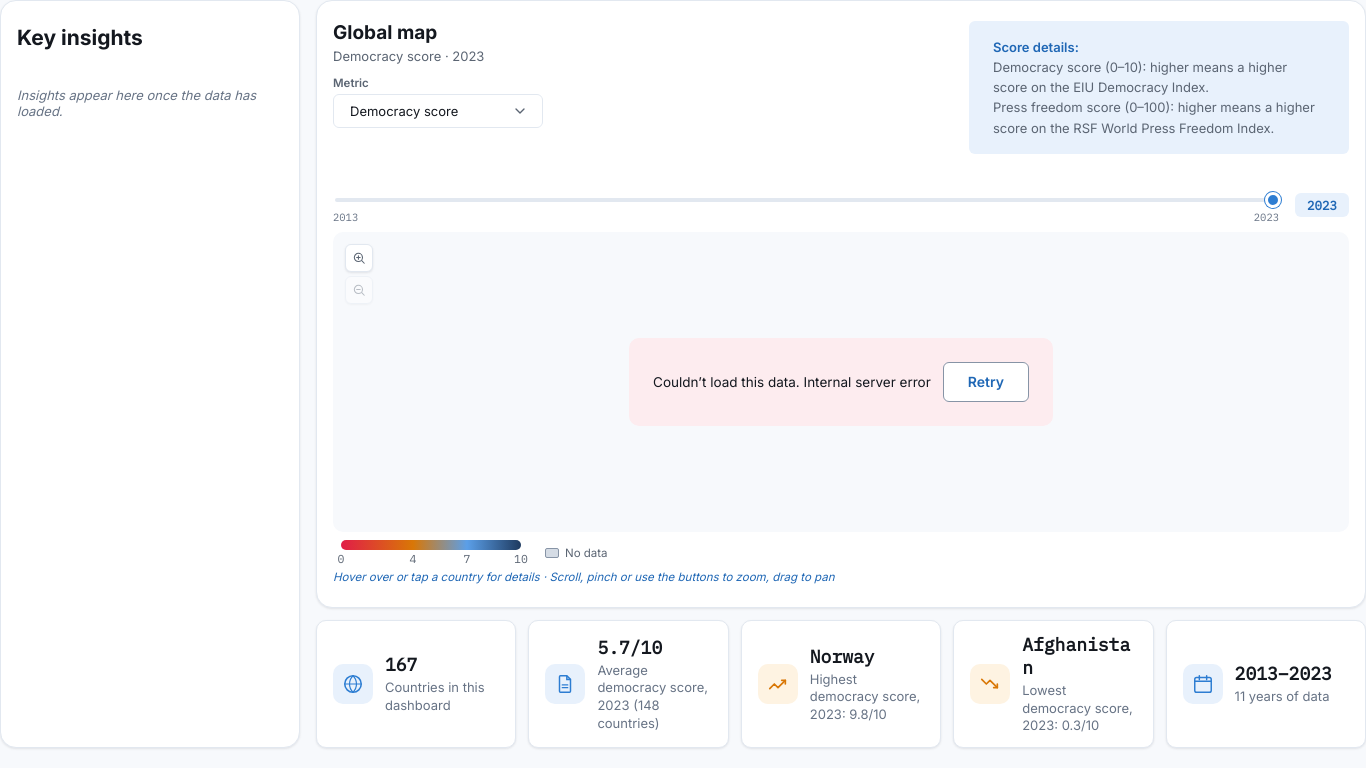
Test: Global map › shows an error with Retry when the map data fails to load
Expected: the message shows "Internal server error", [804, 374, 931, 390]
Click the button "Retry" at (986, 382), box [943, 362, 1029, 402]
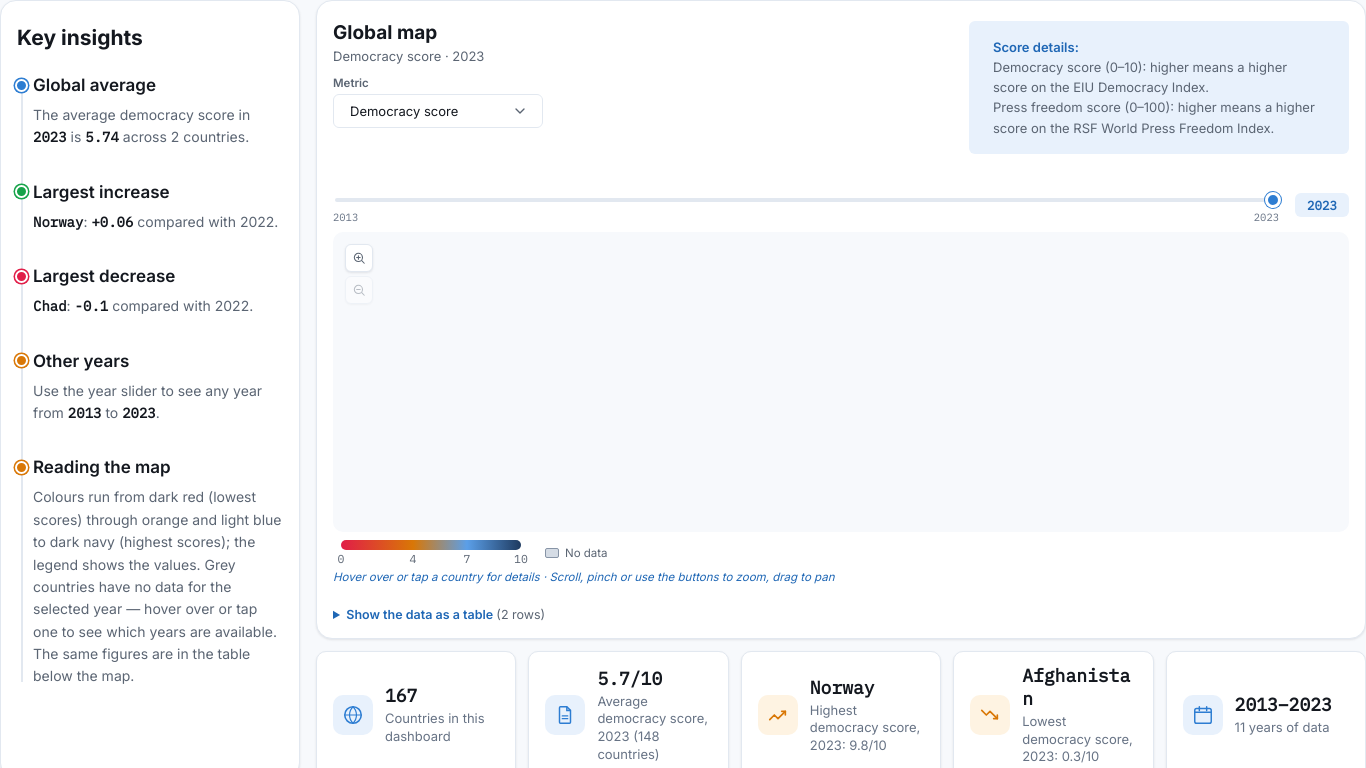
Expected: the heading "Global average" is shown, [33, 75, 156, 95]
